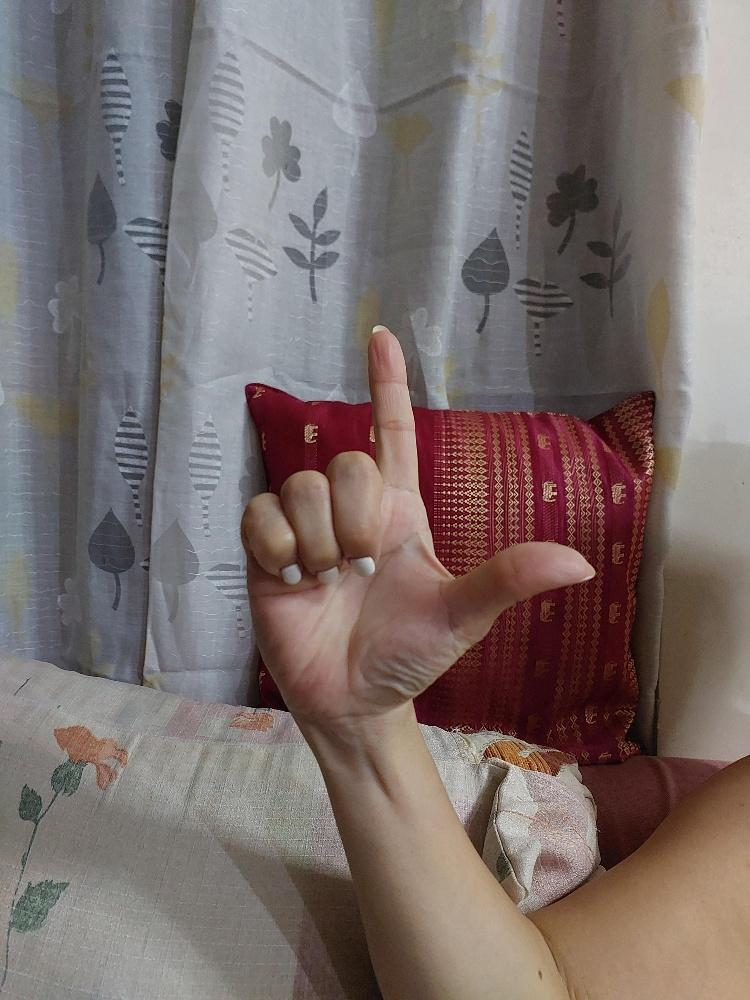l: (236, 319, 598, 720)
